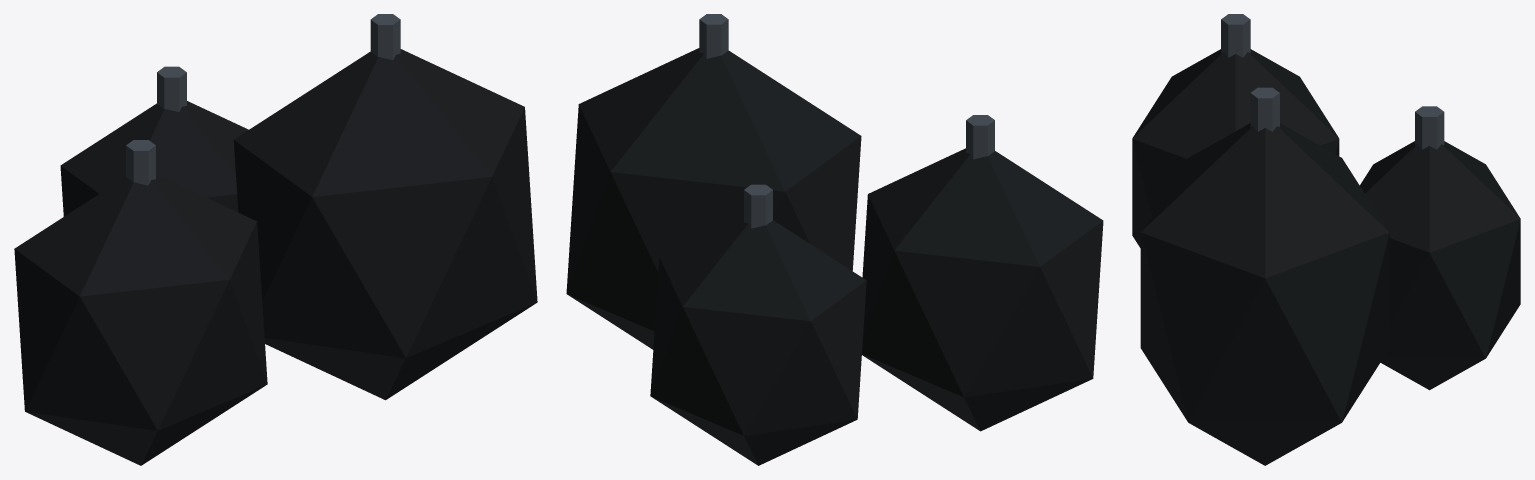
File: GarbageBagPile.fbx
The picture shows the model from 3 angles, left to right: view 1: azimuth 30°, elevation 25°; view 2: azimuth 150°, elevation 25°; view 3: azimuth 270°, elevation 25°; orthographic projection. The views are drawn at different scales.
Visible parts, largest first — view 1: GarbageBagPile; view 2: GarbageBagPile; view 3: GarbageBagPile.
Boxes of the visible parts, <box> form: GarbageBagPile: <box>14,14,537,465</box>; GarbageBagPile: <box>566,14,1103,465</box>; GarbageBagPile: <box>1132,14,1520,465</box>.
Size of the model in its own units: 99.19 by 70.1 by 66.18.
Materials: 1 (1 with a texture image).
